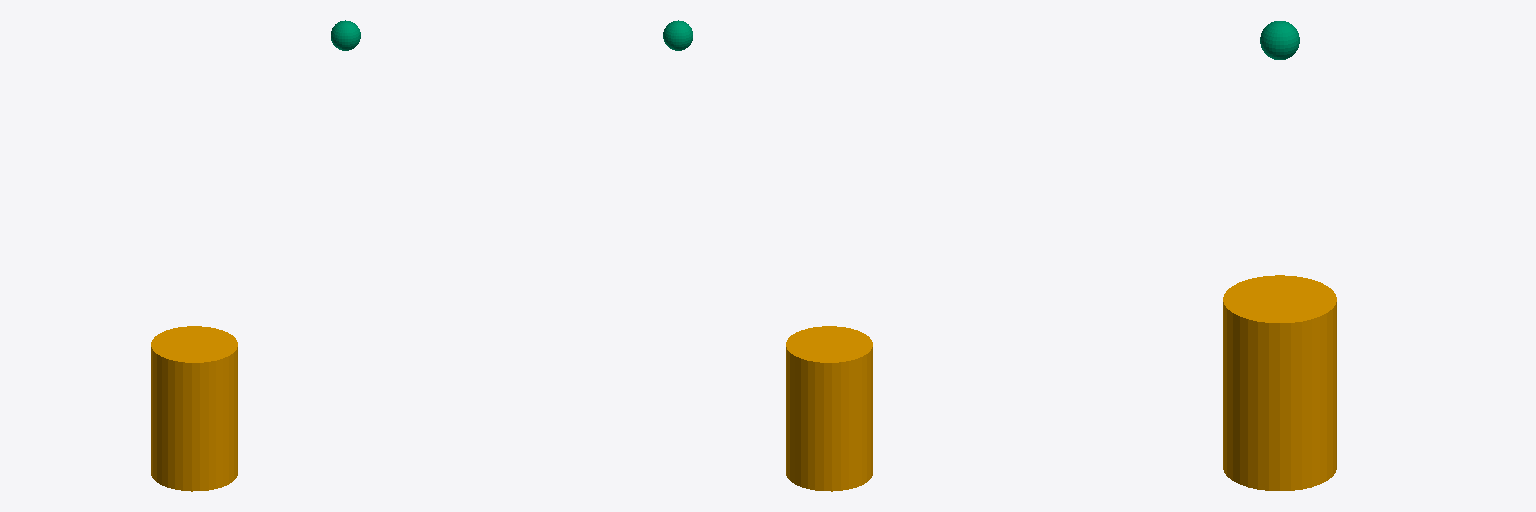
robot.urdf — hook_hand:
<?xml version="1.0" ?>
<robot name="hook_hand">
    <link name="hand_base">
        <visual>
            <geometry>
                <cylinder length="0.065" radius="0.02"/>
            </geometry>
        </visual>
        <collision>
            <geometry>
                <cylinder length="0.065" radius="0.031"/>
            </geometry>
        </collision>
    </link>
    <joint name="hand2hook" type="fixed">
        <origin rpy="-1.57 0 -1.57" xyz="-0.031 0.031 0.0425"/>
        <parent link="hand_base"/>
        <child link="hook"/>
    </joint>
    <link name="hook">
        <visual>
          <origin xyz="0.031 0.01 0.031" rpy="3.14159265 0 1.57"/>
          <geometry>
              <mesh filename="./meshes/ur3/visual/hook4door_sagano_san.dae" scale="0.001 0.001 0.001" />
          </geometry>
      </visual>        <collision>
            <geometry>
                <mesh filename="./meshes/ur3/visual/hook4door_v3.obj"/>
            </geometry>
            <origin rpy="1.57 0 0" xyz="0 0 0"/>
        </collision>
    </link>
    <joint name='hook_finger' type='fixed'>
        <origin rpy="0 0 0" xyz="0.08 0 0.17"/>
        <parent link='hand_base'/>
        <child link='hook_finger'/>
    </joint >
    <link name='hook_finger'>
        <visual>
            <geometry>
                <sphere radius='0.007'/>
            </geometry>
        </visual>
    </link>
</robot>

--- Facts derived from the render (not from the file) ---
Views: 3 orthographic renders of the robot side by side, from view 1: azimuth 30°, elevation 25°; view 2: azimuth 150°, elevation 25°; view 3: azimuth 270°, elevation 25°.
Model hook_hand with 3 links and 2 joints (2 fixed), rooted at hand_base, posed all joints at 0.
Visible links, largest first — view 1: hand_base, hook_finger; view 2: hand_base, hook_finger; view 3: hand_base, hook_finger.
Boxes of the visible links, bbox=[...] form: hand_base: bbox=[151, 326, 237, 491]; hook_finger: bbox=[331, 20, 360, 50]; hand_base: bbox=[786, 326, 872, 491]; hook_finger: bbox=[663, 20, 692, 50]; hand_base: bbox=[1223, 275, 1336, 490]; hook_finger: bbox=[1260, 21, 1299, 59].
Bounding box of the posed robot: 0.107 × 0.04 × 0.2095 m (x, y, z).
0 mesh visuals loaded from 1 distinct referenced files (none loaded); not drawn: 1 (reference not matched to a file when rendering).
